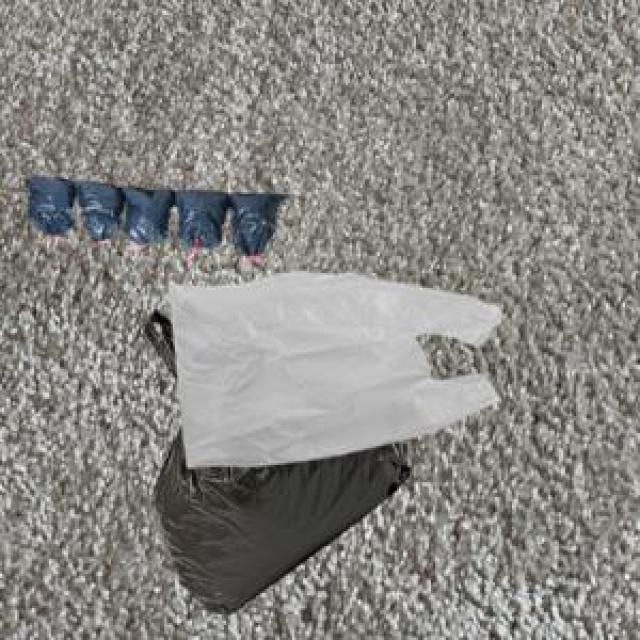miscellaneous trash: (147, 334, 408, 610), (21, 173, 285, 254)
